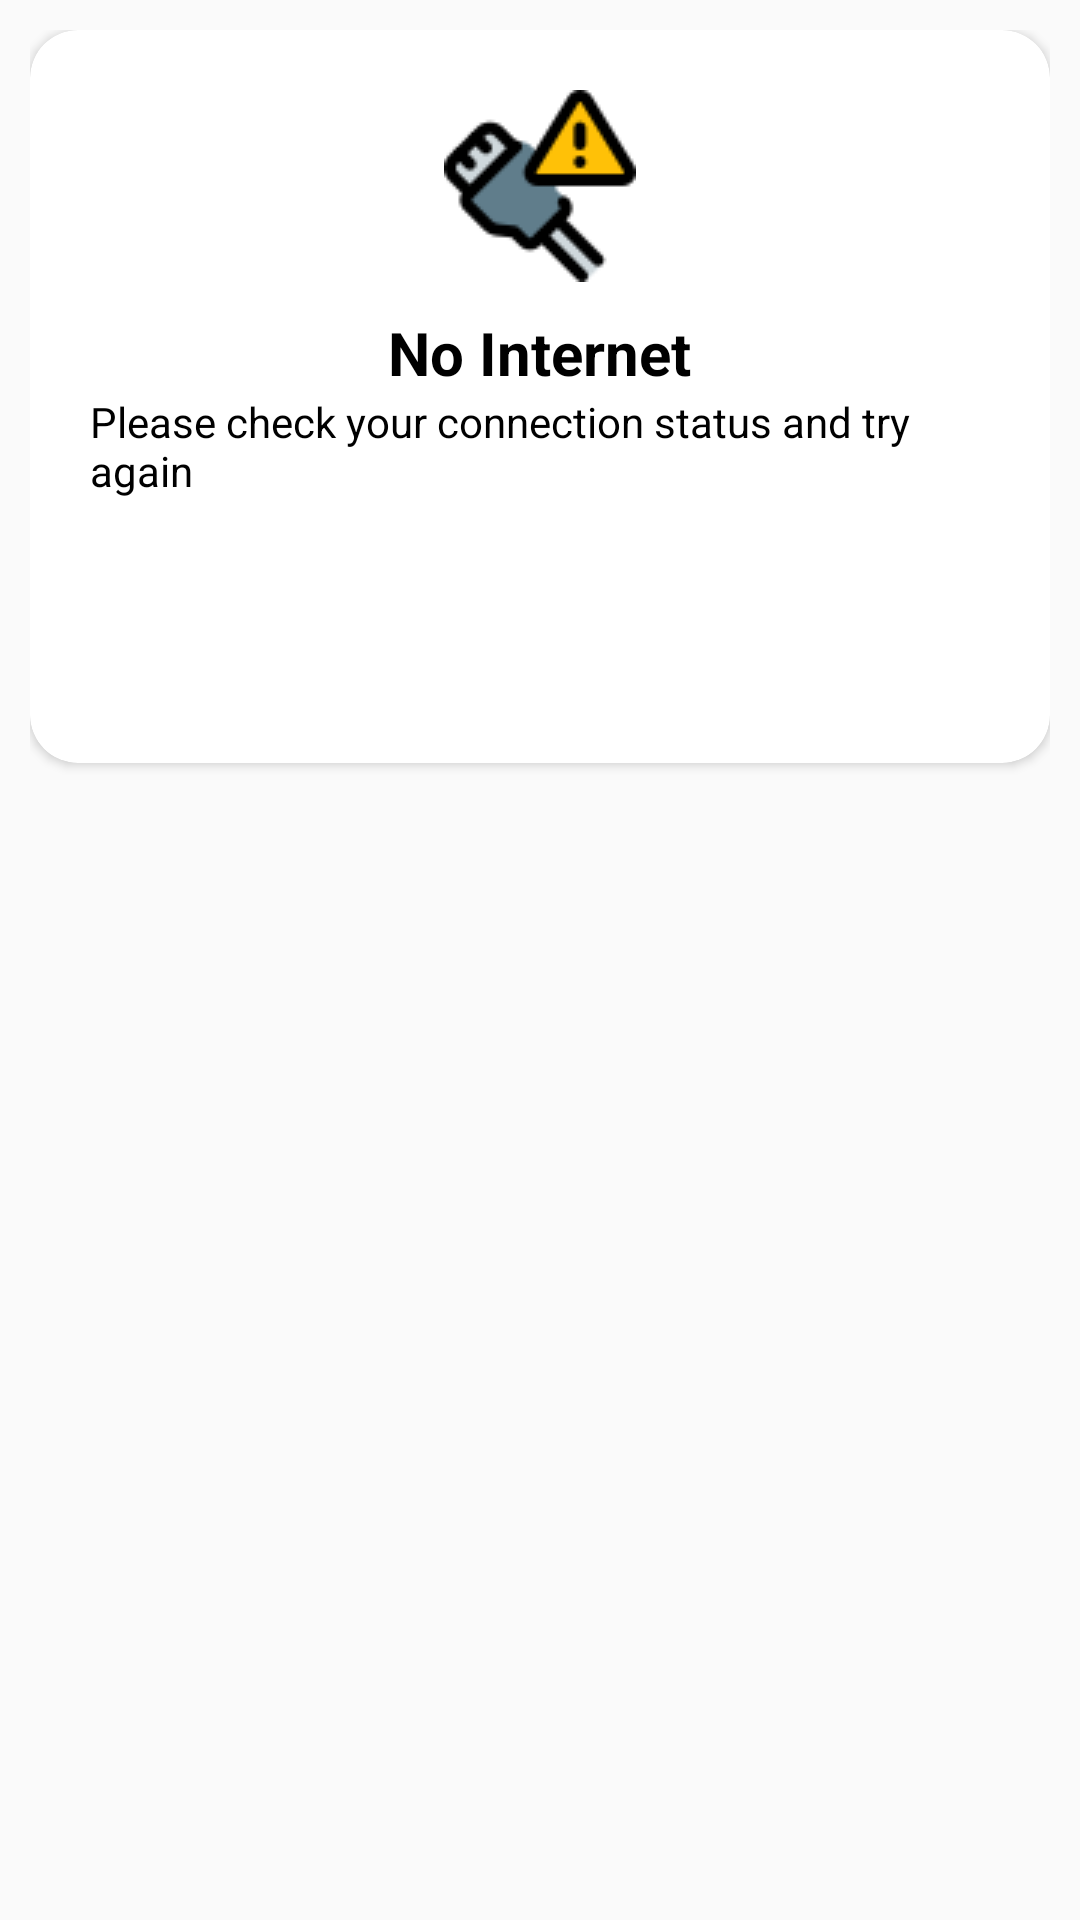

Screen size 1080px x 1920px. Icon name, then its box in pixels as [left=x1, top=y1, right=x2, bottom=y2]:
error: [left=444, top=90, right=636, bottom=282]
